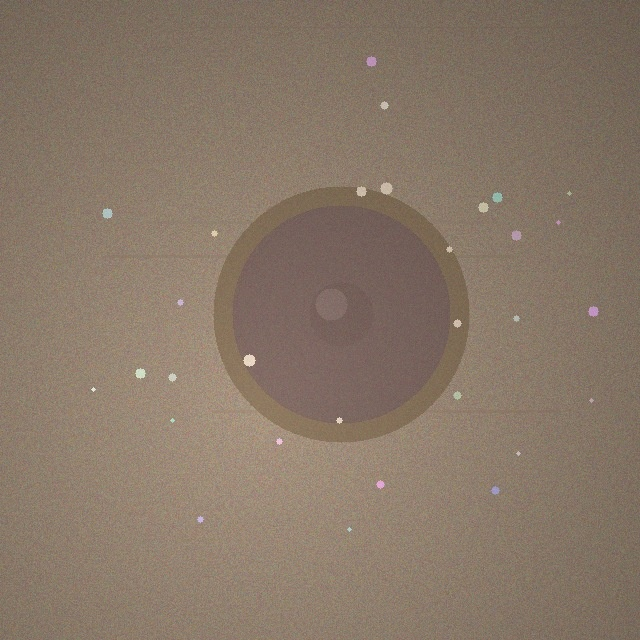overburn: (213, 186, 469, 442)
